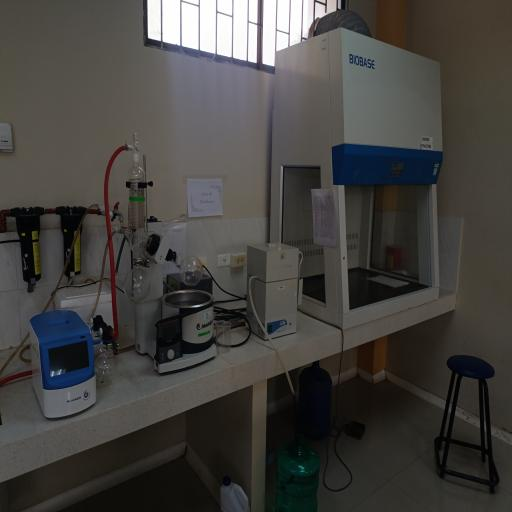Camara_Extractora_Biobase: (260, 21, 454, 340)
